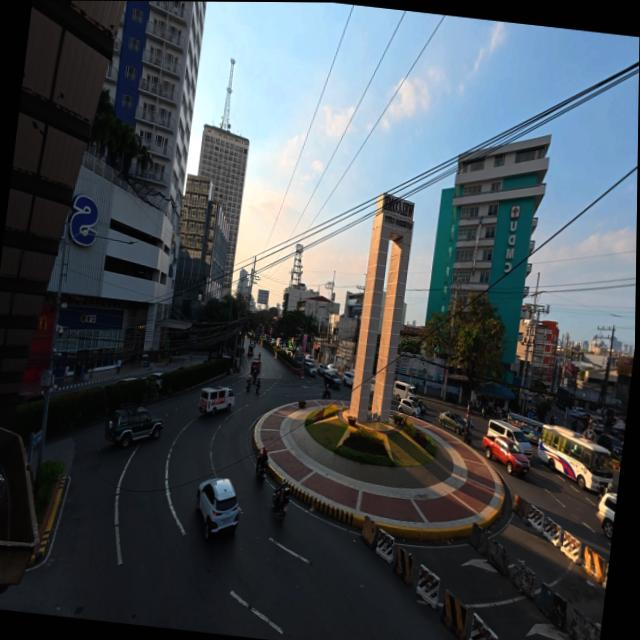Jeepneys: (506, 412, 542, 444), (247, 340, 254, 356)
bus: (537, 425, 612, 490)
car: (195, 479, 239, 540), (105, 405, 162, 448), (486, 420, 531, 459), (596, 493, 616, 540), (596, 433, 622, 462), (438, 411, 465, 433), (397, 399, 420, 417), (146, 372, 162, 391), (323, 372, 340, 389), (410, 397, 426, 415), (303, 361, 316, 376), (113, 376, 136, 384), (342, 372, 353, 387), (250, 359, 260, 374), (316, 363, 327, 375), (573, 407, 586, 417), (327, 364, 338, 374), (369, 376, 374, 392), (349, 369, 354, 375), (270, 338, 275, 344)
motorcycle: (271, 489, 289, 522), (255, 461, 266, 481), (413, 399, 426, 415), (462, 427, 472, 446), (321, 385, 332, 400), (245, 379, 251, 392), (255, 383, 259, 394)
trucks: (481, 436, 529, 476)
vans: (486, 420, 531, 460), (199, 388, 233, 414), (391, 381, 416, 401), (588, 416, 603, 433)
